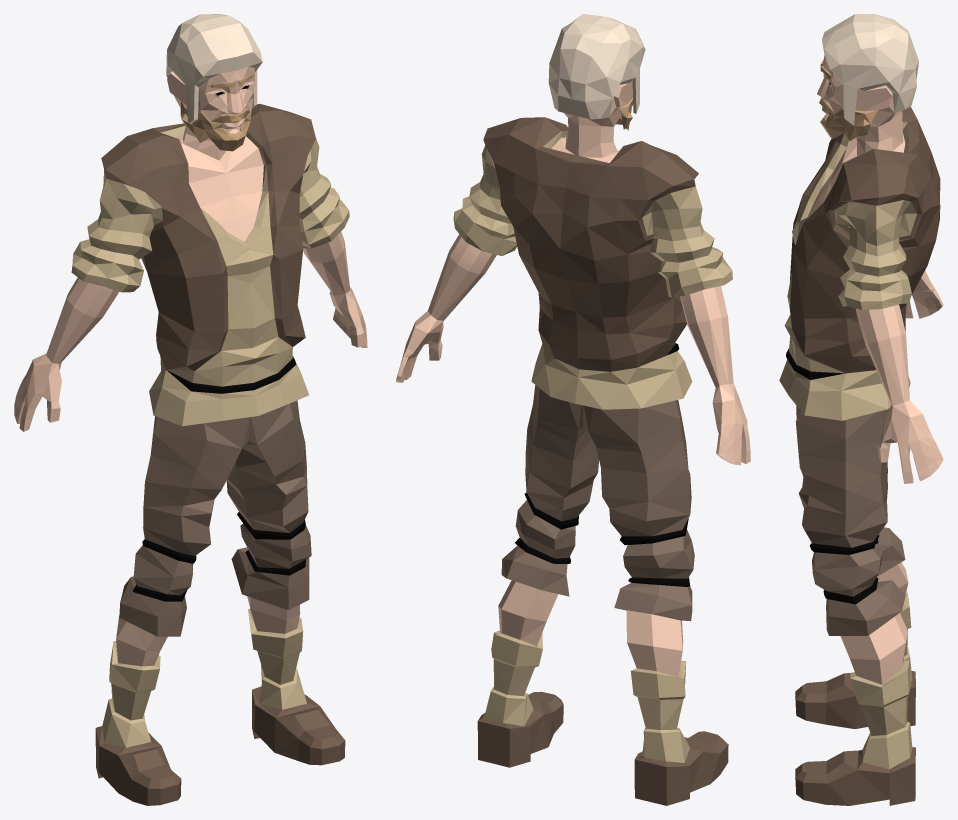
Rendered from peasant_5.glb.
3 views of the same model, side by side, from view 1: azimuth 30°, elevation 25°; view 2: azimuth 150°, elevation 25°; view 3: azimuth 270°, elevation 25° (orthographic).
Parts seen in each view (by area): view 1: peasant_5.001; view 2: peasant_5.001; view 3: peasant_5.001.
Part boxes in pixels (x1,y1,x2,y2): peasant_5.001: [14, 14, 367, 805]; peasant_5.001: [396, 14, 750, 805]; peasant_5.001: [779, 14, 943, 805].
Size of the model in its own units: 0.8621 by 1.77 by 0.3599.
Materials: 1 (1 with a texture image).
